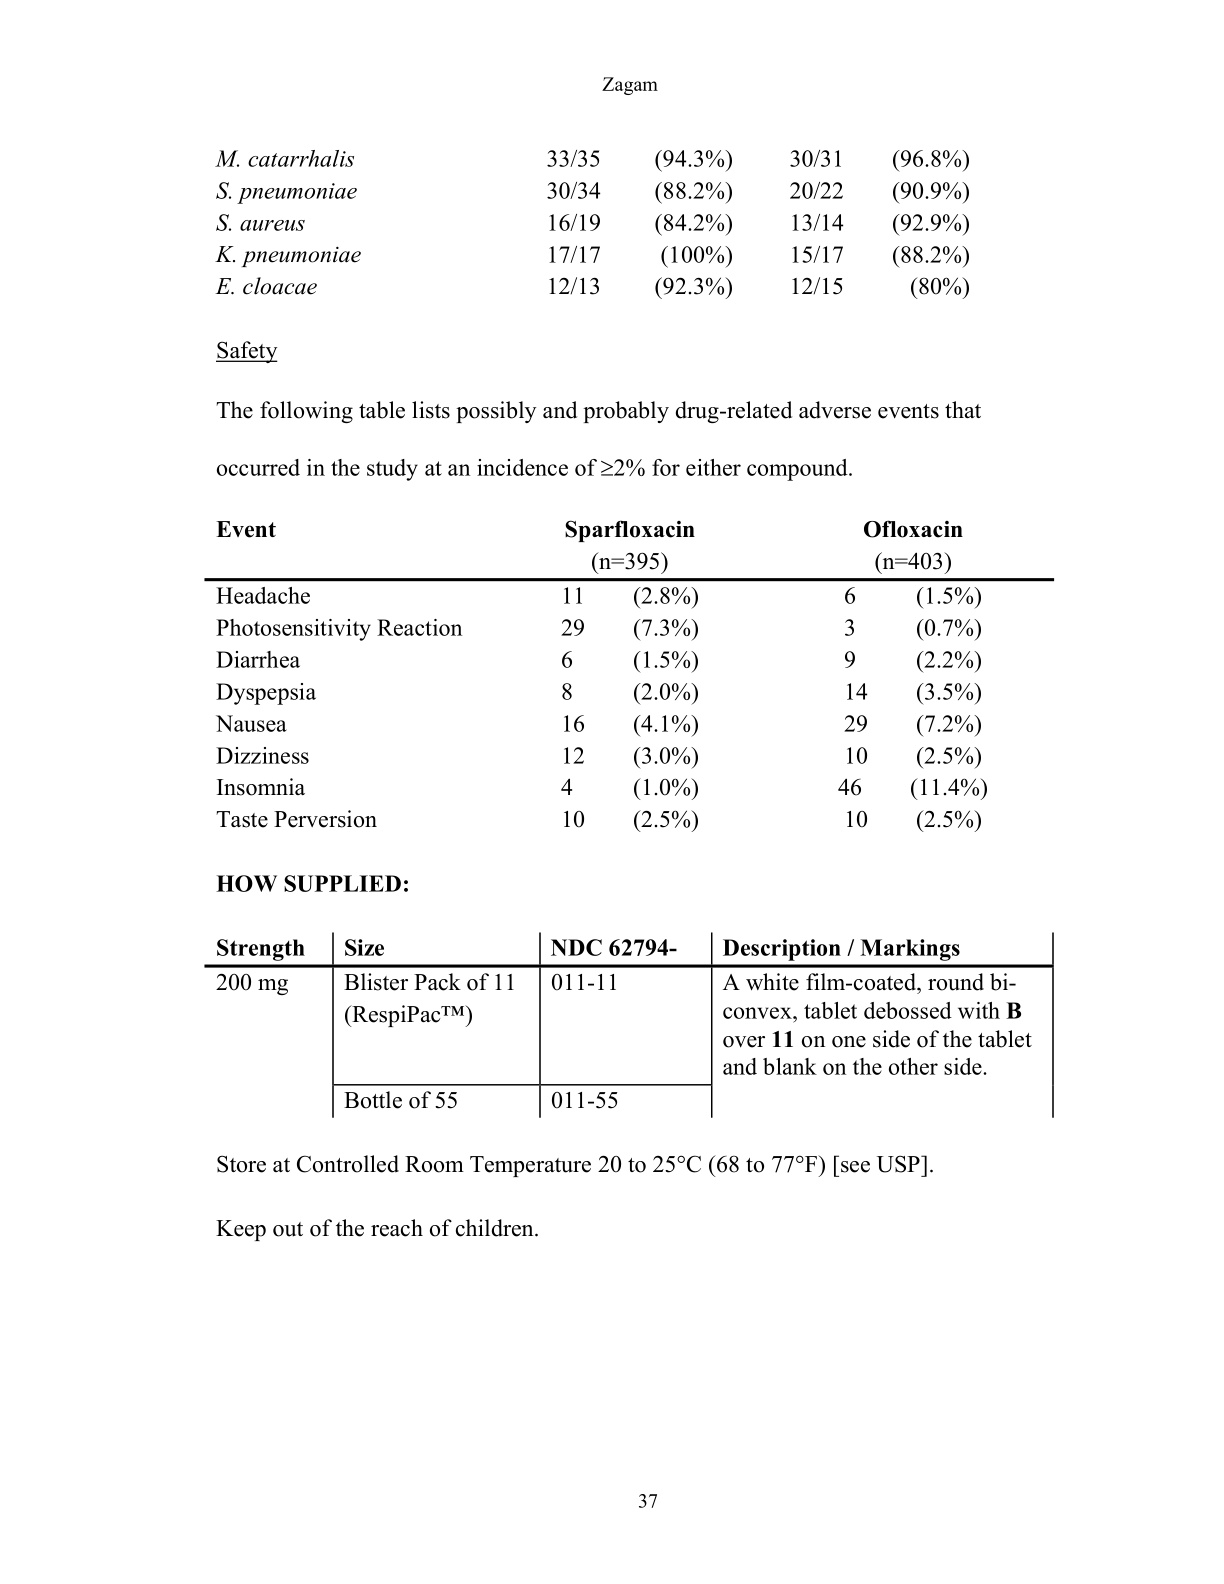nolines: (211, 144, 975, 300)
partial_lined: (203, 518, 1054, 832)
partial_lined_merged_cells: (202, 931, 1056, 1119)
